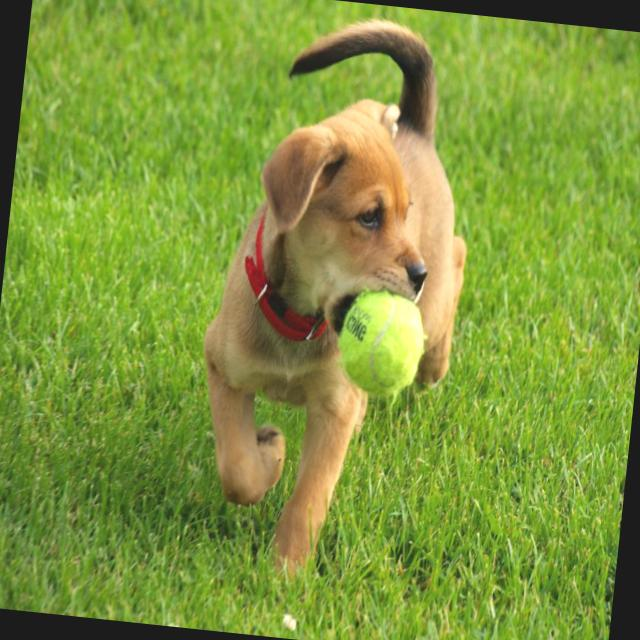Tennis Ball: (332, 285, 434, 410)
